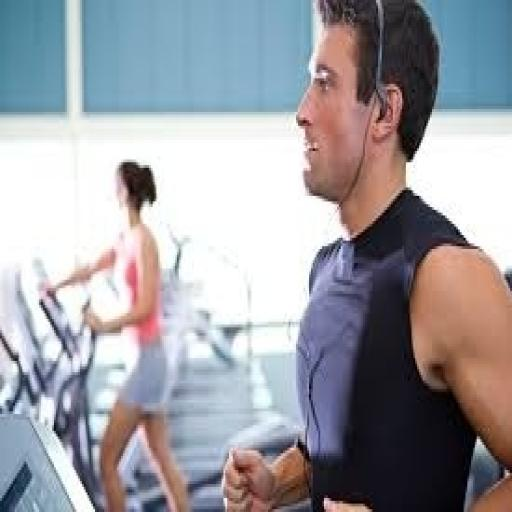running: (220, 0, 510, 509), (39, 157, 196, 509)
